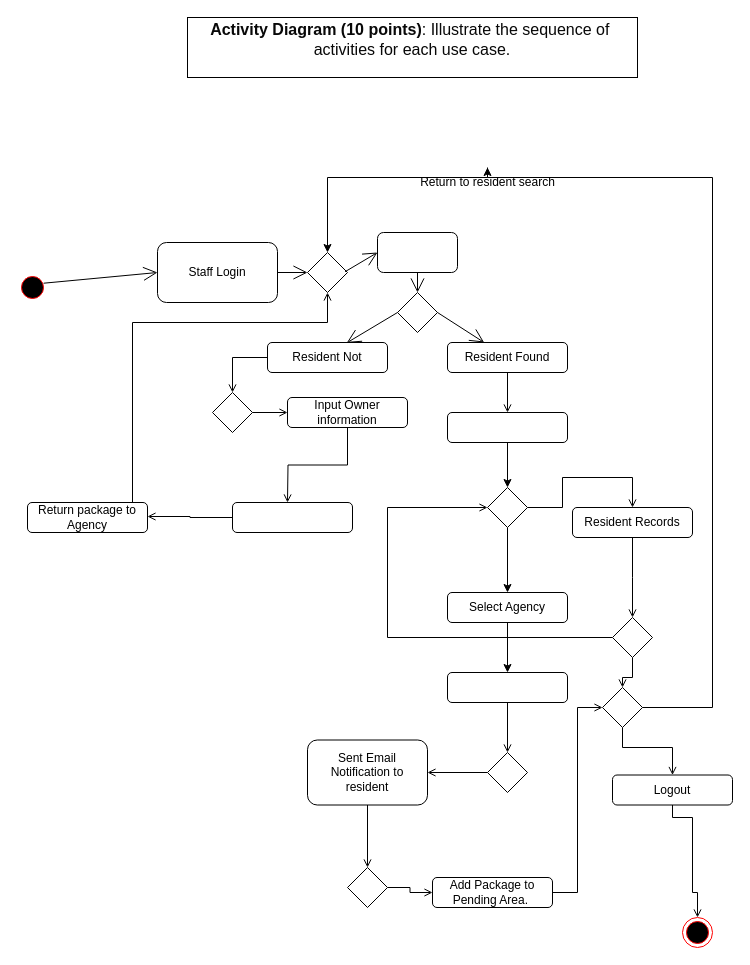
This 750x965 diagram has some shape labels left out. Here are the shapes that lost their labels. From the top down, the centre of each, then its label:
At (417,252): "Search for resident".
At (507,427): "Select Resident".
At (292,517): "Placed in Unknown area".
At (507,687): "Resident Information Confirmation".
